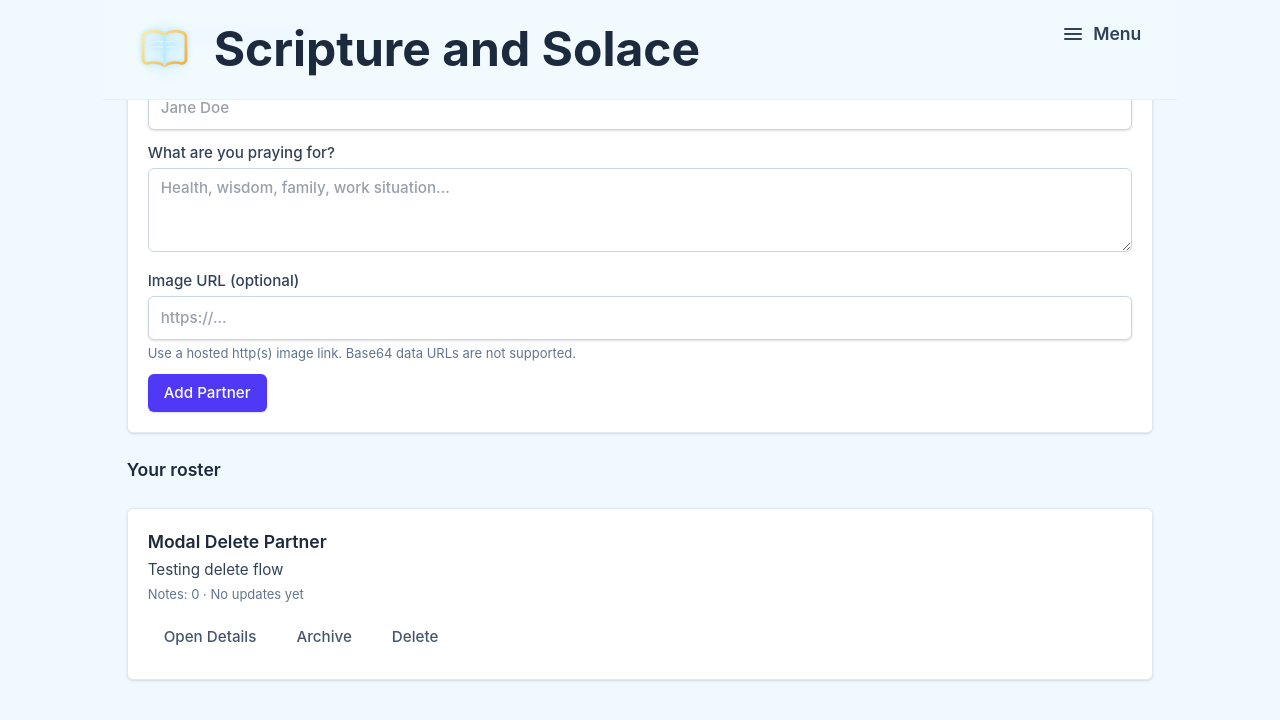
Scenario: App › confirms prayer partner delete in a modal
(page scrolled)
Expected: the text "Modal Delete Partner" is shown, top-left (148, 531), bottom-right (327, 552)
Click the button "Delete" at {"x": 415, "y": 637}, box top-left (376, 615), bottom-right (454, 659)
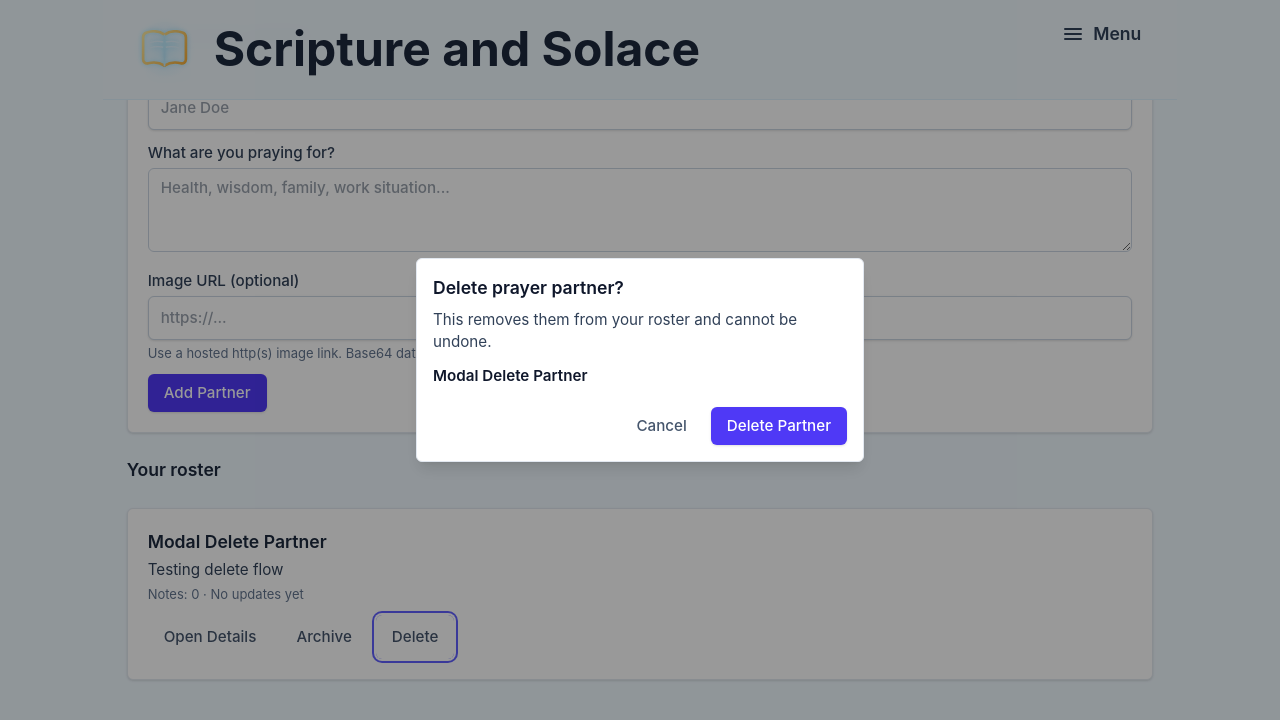
Result: the heading "Delete prayer partner?" is shown at top-left (433, 277), bottom-right (624, 298)
Click the button "Delete partner" at {"x": 779, "y": 426}, box top-left (711, 407), bottom-right (847, 445)
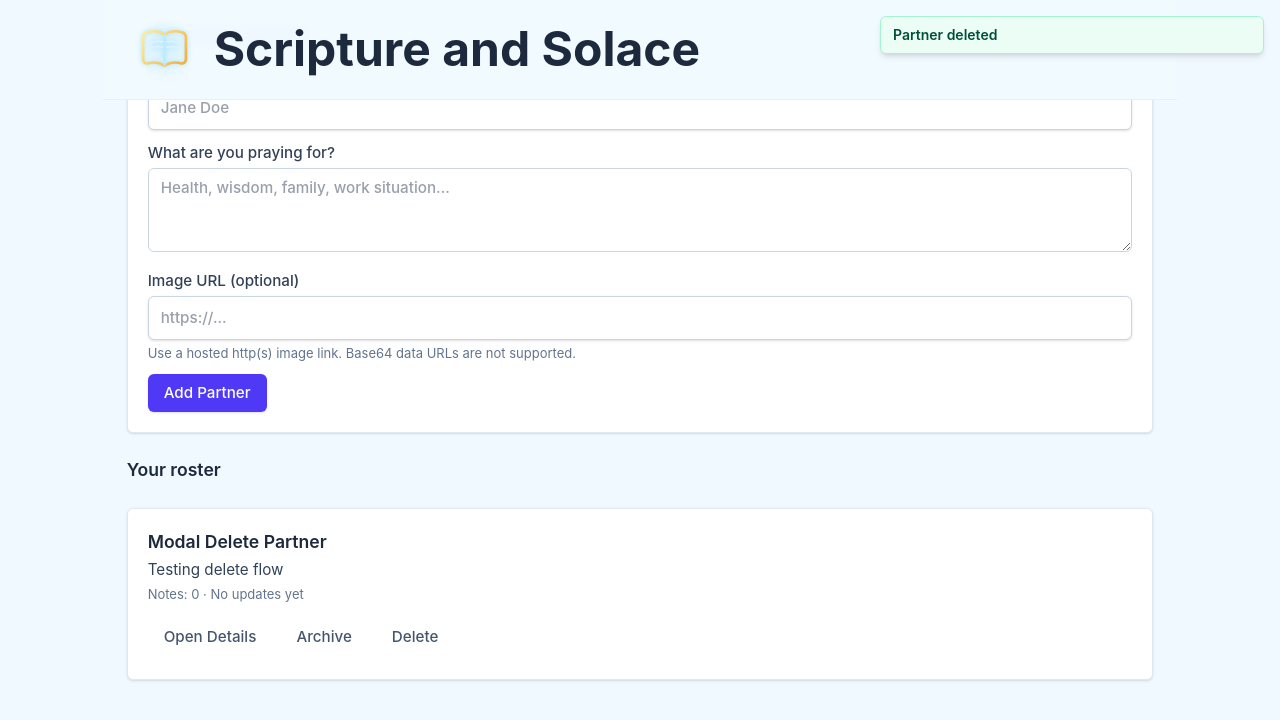
Result: the text "Partner deleted" is shown at top-left (893, 26), bottom-right (997, 43)
